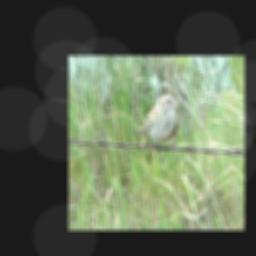Sparrow: (134, 91, 180, 151)
